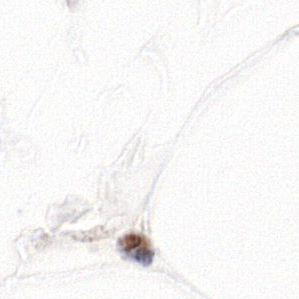Lymphocyte: (116, 230, 156, 264)
